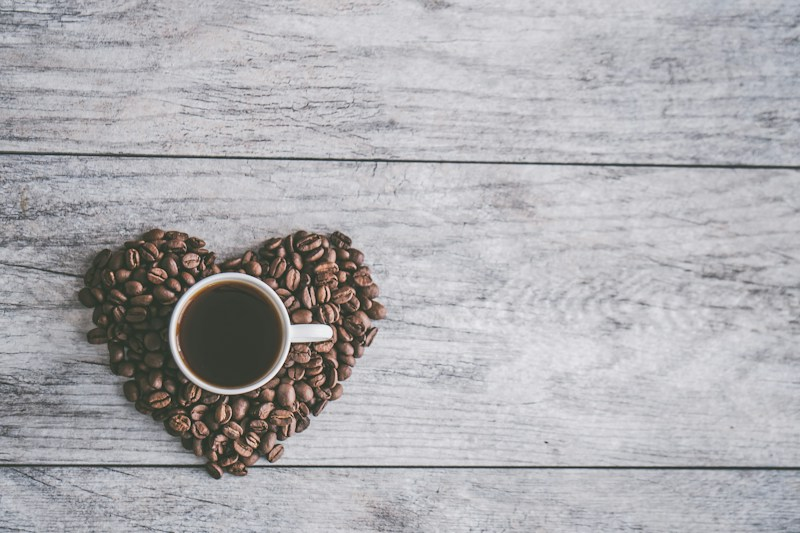cup: (168, 271, 334, 396)
